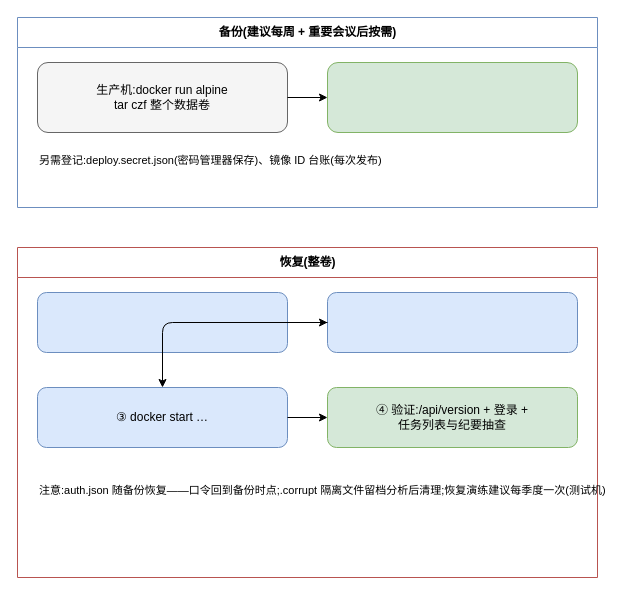
Image size: 624x595. Some labels were removed from this diagram. The centre of each missing label's shape, as x and y in pixels:
"① docker stop ale-symphony-console" goes at (162,322).
"② 清空数据卷 → 解包备份(tar 回卷)" goes at (452,322).
"备份物:mmboard-data-YYYY-MM-DD.tgz (tasks/纪要/设置/认证/额度全量)" goes at (452,97).
